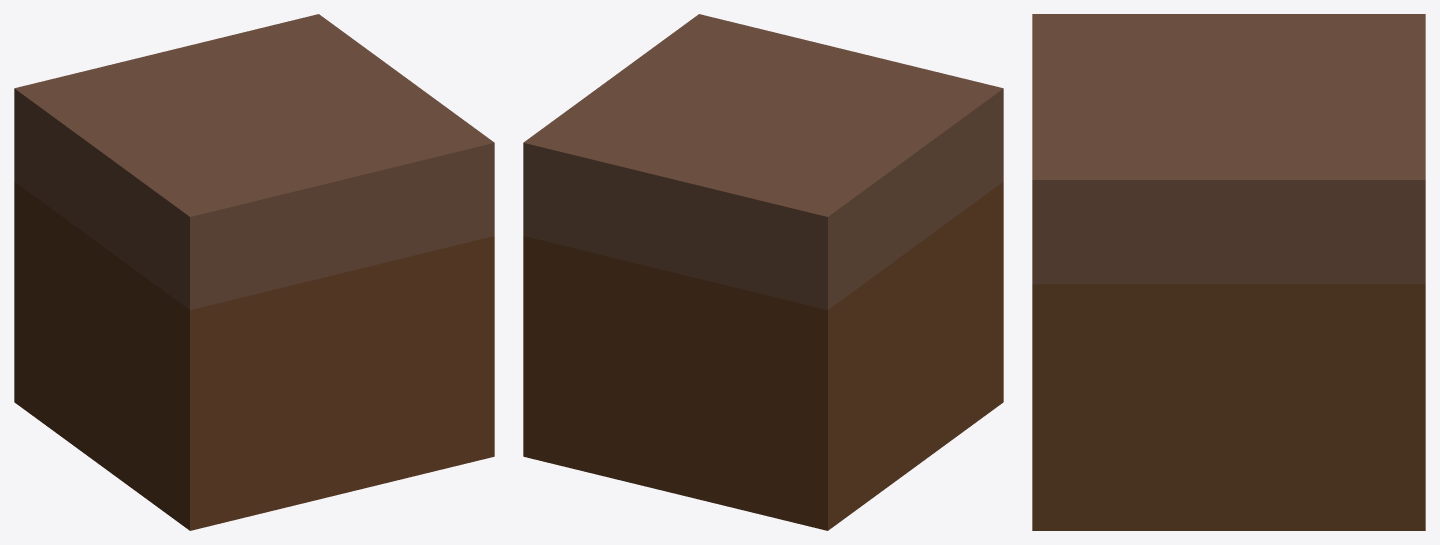
File: Ground 1.fbx
The picture shows the model from 3 angles, left to right: view 1: azimuth 30°, elevation 25°; view 2: azimuth 150°, elevation 25°; view 3: azimuth 270°, elevation 25°; orthographic projection. The views are drawn at different scales.
Visible parts, largest first — view 1: Ground 1; view 2: Ground 1; view 3: Ground 1.
Boxes of the visible parts, bbox=[...] form: Ground 1: bbox=[14, 14, 494, 530]; Ground 1: bbox=[523, 14, 1003, 530]; Ground 1: bbox=[1032, 14, 1425, 530].
Size of the model in its own units: 200 by 197 by 200.
